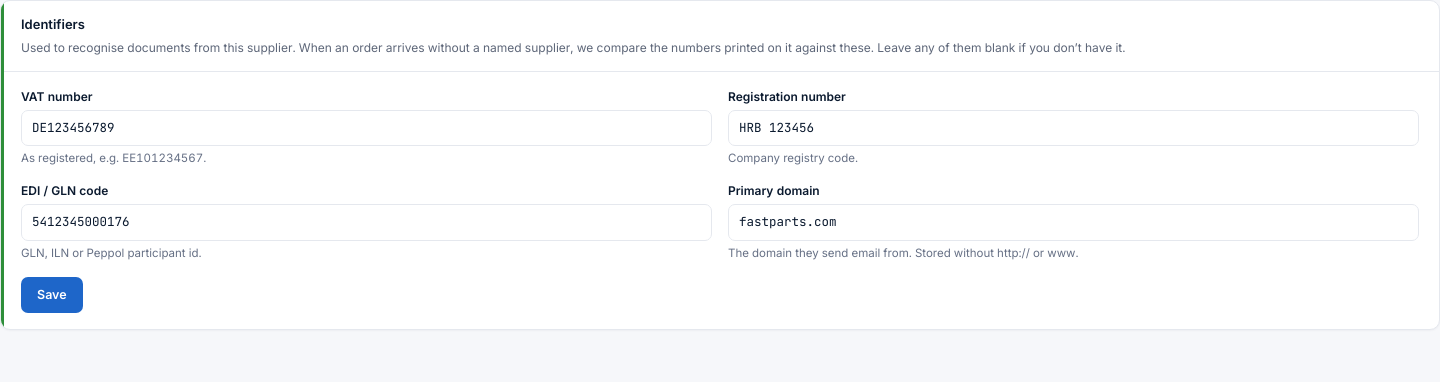
Test: SupplierIdentityCard › confirms the save, and shows what came back
Replace the text in the field labelled "Primary domain" with "HTTPS://WWW.FastParts.de/" at (1074, 223), box [728, 204, 1419, 241]
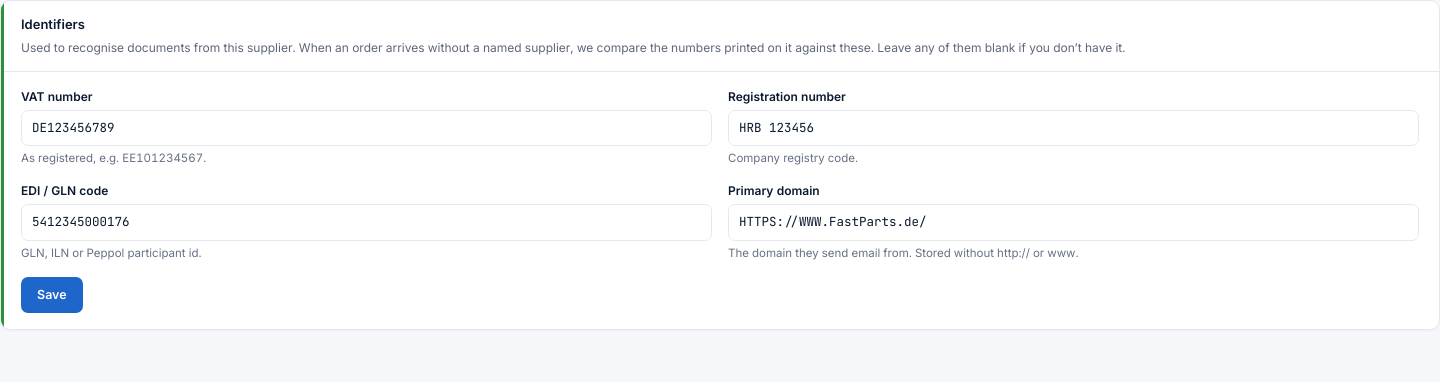
Click the button "Save".
click(52, 295)  # box [21, 277, 83, 313]
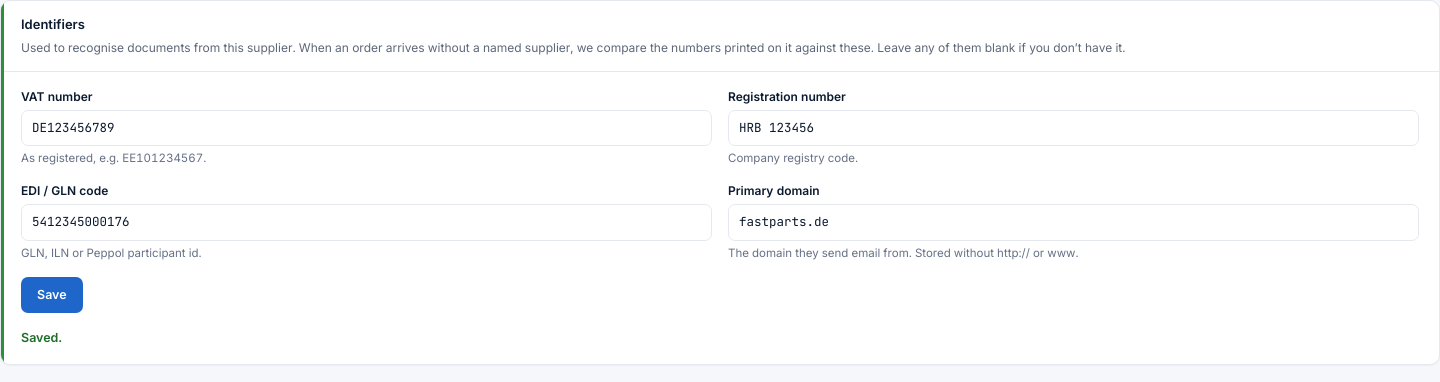
Now the text "Saved." is shown, box [21, 330, 62, 345]
Now the field labelled "Primary domain" holds "fastparts.de", box [728, 204, 1419, 241]
